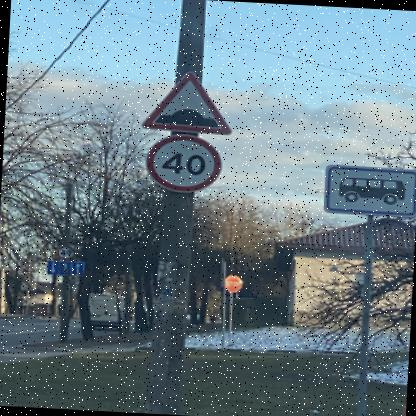speedlimit: (140, 132, 224, 194), (56, 244, 74, 258)
stop: (221, 273, 242, 293)
